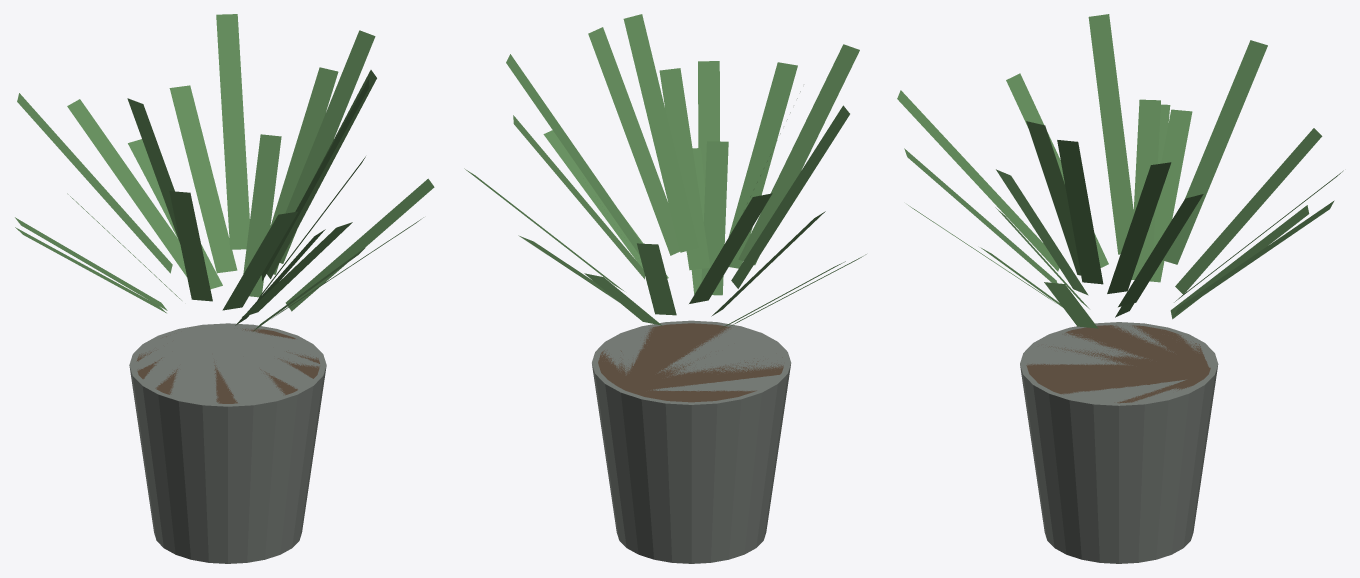
Rendered from PottedPlant.fbx.
3 views of the same model, side by side, from view 1: azimuth 30°, elevation 25°; view 2: azimuth 150°, elevation 25°; view 3: azimuth 270°, elevation 25° (orthographic).
Parts seen in each view (by area): view 1: PottedPlant; view 2: PottedPlant; view 3: PottedPlant.
Boxes of the visible parts, bbox=[...] form: PottedPlant: bbox=[15, 14, 434, 563]; PottedPlant: bbox=[464, 14, 866, 563]; PottedPlant: bbox=[897, 14, 1343, 563].
Size of the model in its own units: 0.6805 by 0.8303 by 0.7237.
